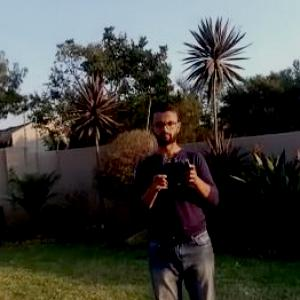follow: (125, 88, 228, 299)
